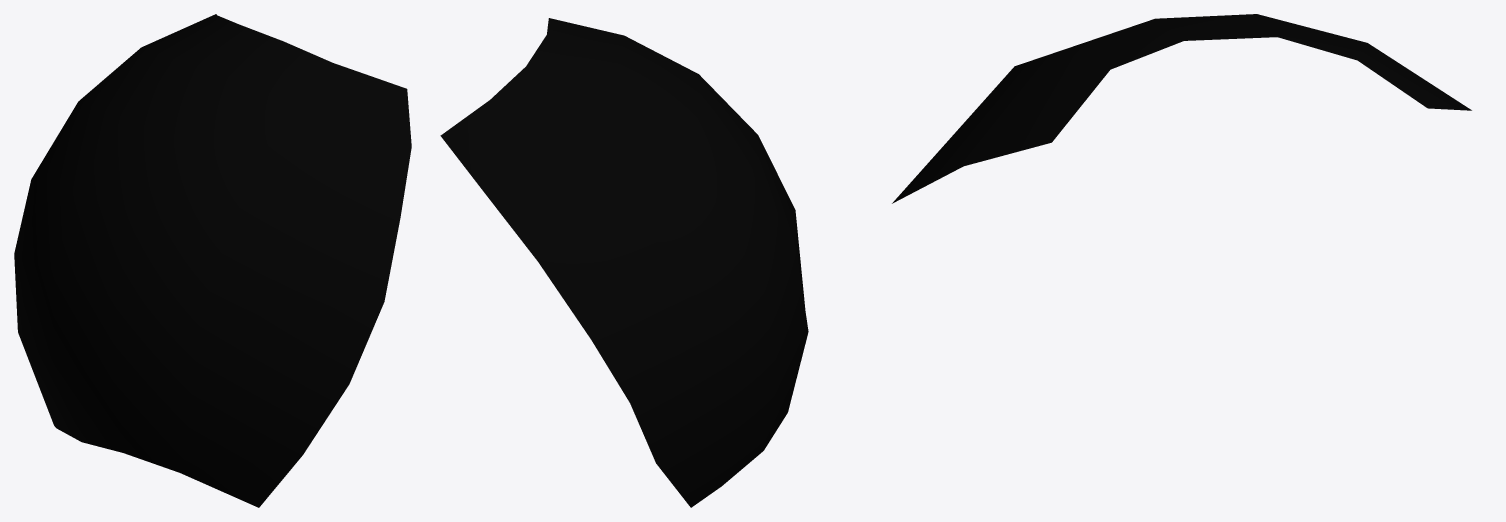
The model's file is bubble_solid_saucer.glb.
3 renders of one model, left to right at view 1: azimuth 30°, elevation 25°; view 2: azimuth 150°, elevation 25°; view 3: azimuth 270°, elevation 25°, orthographic. The views are drawn at different scales.
Parts seen in each view (by area): view 1: bubble_solid_texture.png__; view 2: bubble_solid_texture.png__; view 3: bubble_solid_texture.png__.
Part boxes in pixels (<box>): bubble_solid_texture.png__: <box>14,14,411,507</box>; bubble_solid_texture.png__: <box>440,18,808,507</box>; bubble_solid_texture.png__: <box>892,14,1471,203</box>.
Bounding box in the file's own units: 4.47 × 5.31 × 5.8.
1 material, 1 textured.
